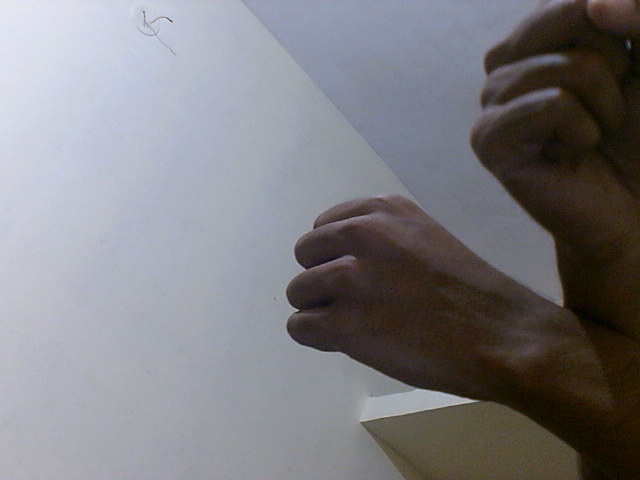hand: (282, 191, 561, 422), (468, 2, 640, 292)
